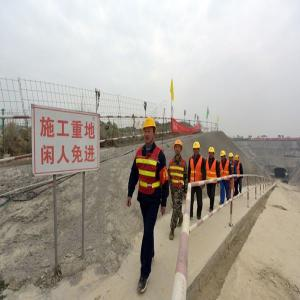yellow: (143, 117, 158, 145), (175, 140, 183, 156), (194, 142, 201, 156), (209, 147, 216, 160), (221, 150, 227, 162), (229, 152, 235, 163), (235, 156, 239, 165)
